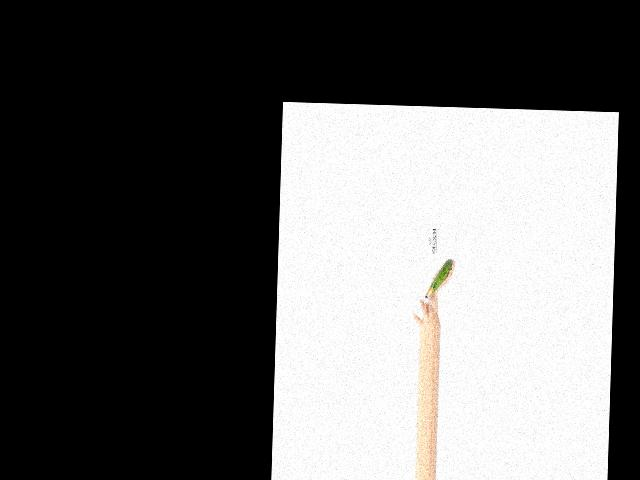cucumber: (429, 258, 452, 292)
